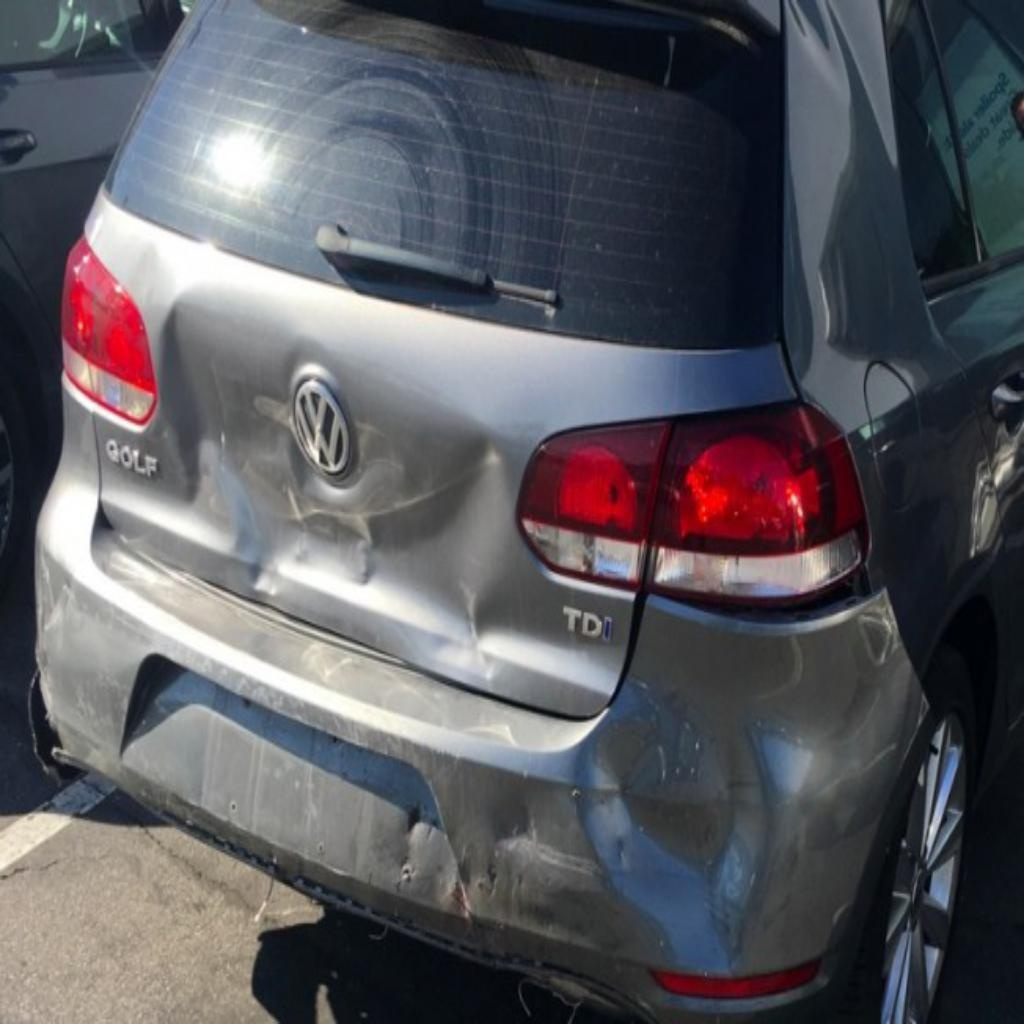Dent: (111, 291, 527, 688), (568, 729, 798, 963)
